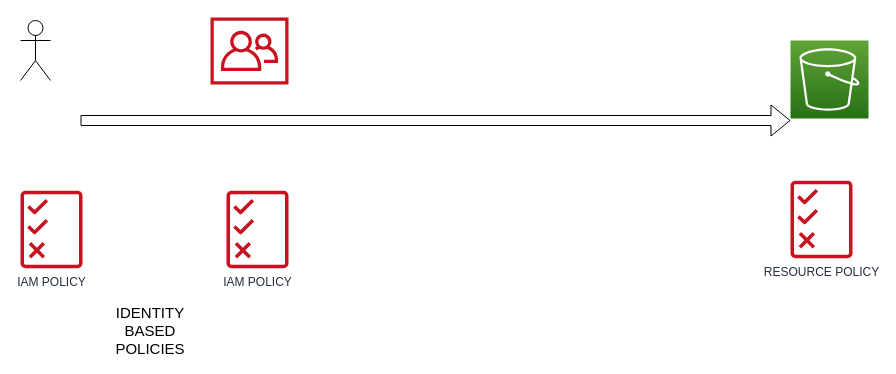
This 896x374 diagram has some shape labels left out. The shapes that lost their labels are listed below. From the top down, each one's centre as x and y in pixels, then its label:
pixel 35 50: IAM USER
pixel 249 50: IAM GROUP
